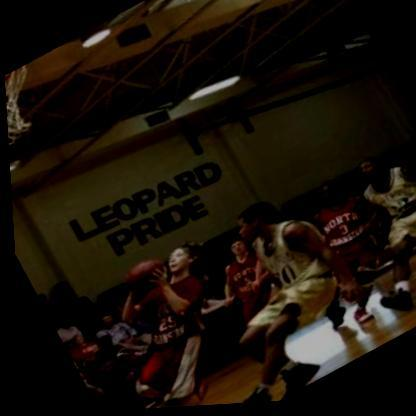basketball: (110, 248, 174, 308)
